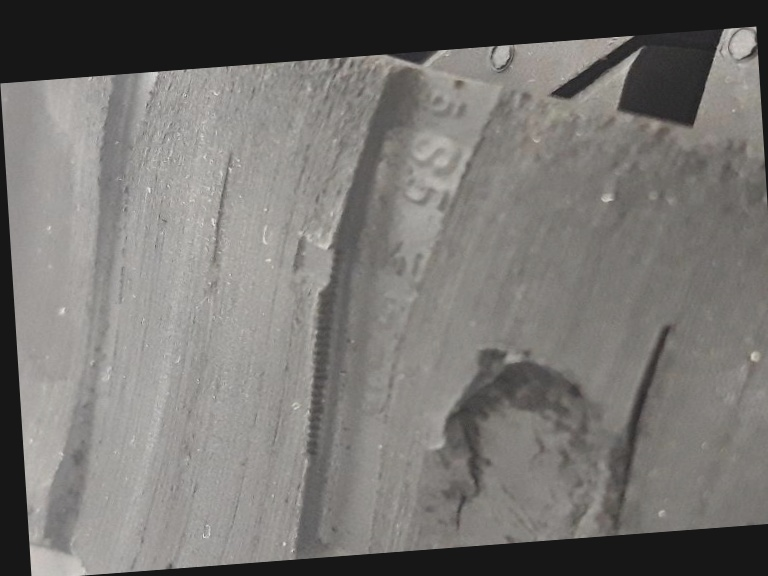temoin:0: (275, 222, 355, 312)
